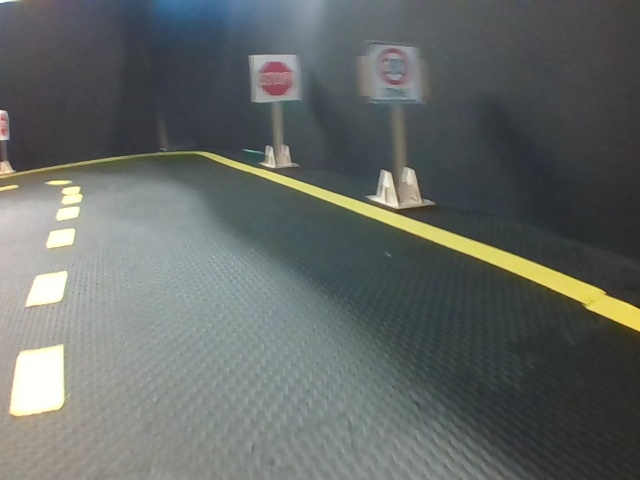30: (369, 44, 421, 104)
stop: (249, 54, 299, 104), (1, 111, 9, 140)
